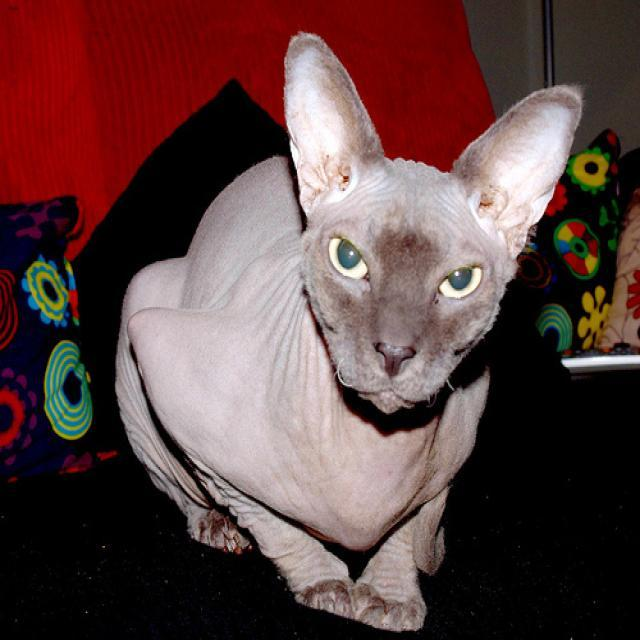Sphynx: (282, 30, 580, 412)
